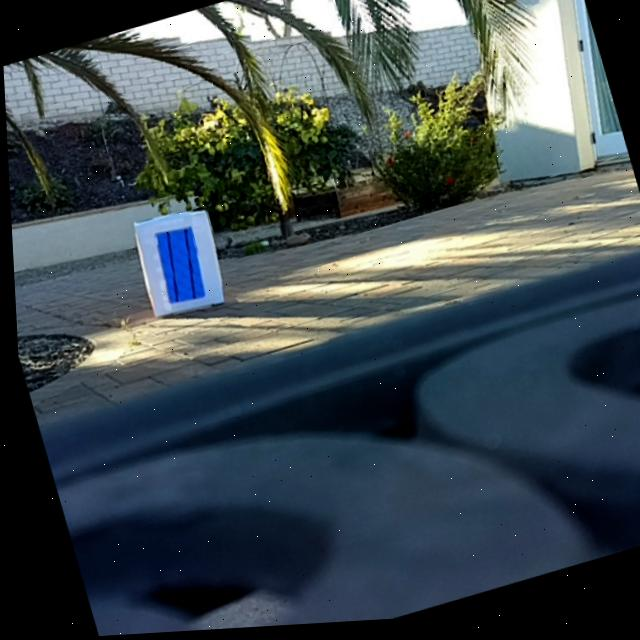led: (149, 225, 205, 311)
